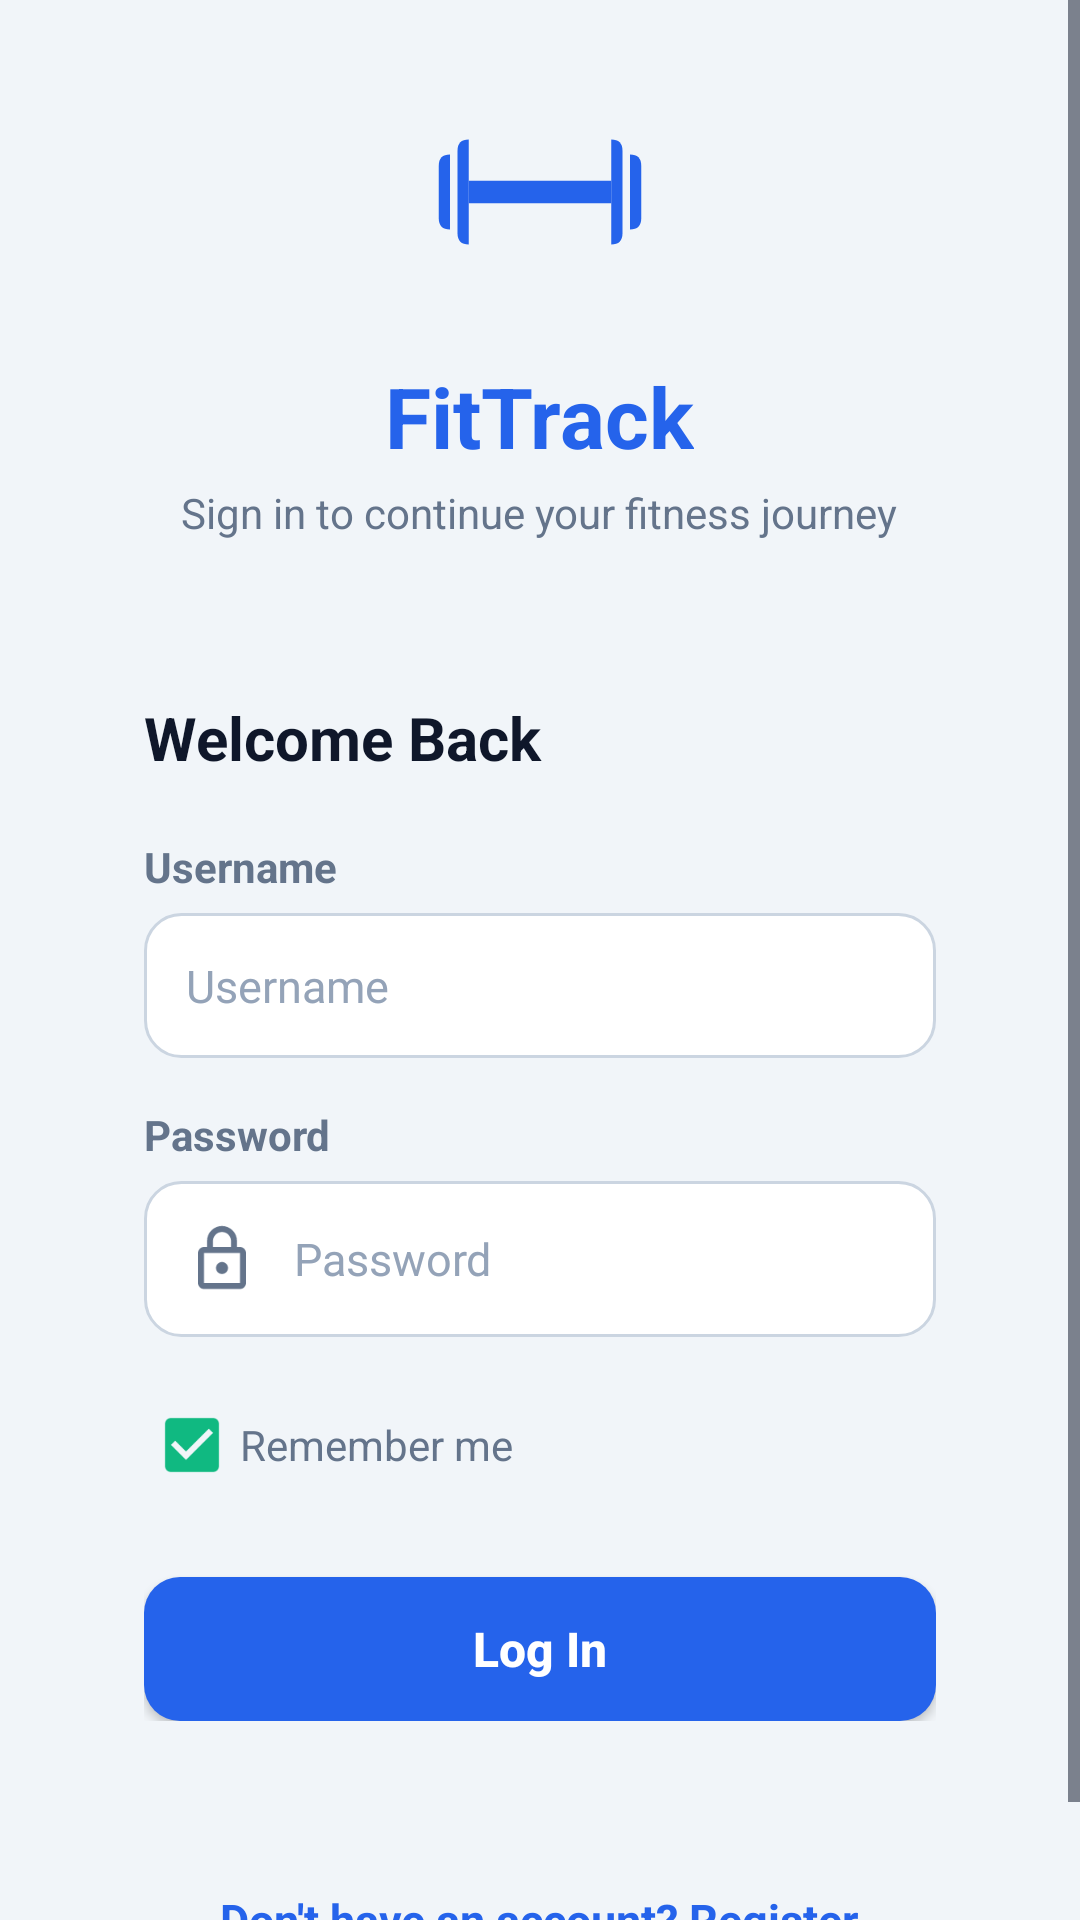

Point at icon controls on the screen. Image size 1080w x 1920h, points as point (x, y).
dumbbell: point (540, 192)
